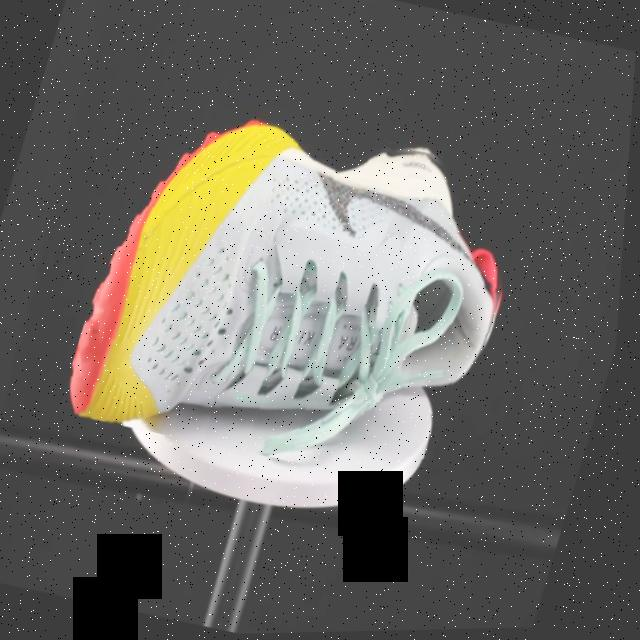shoe: (59, 83, 547, 503)
